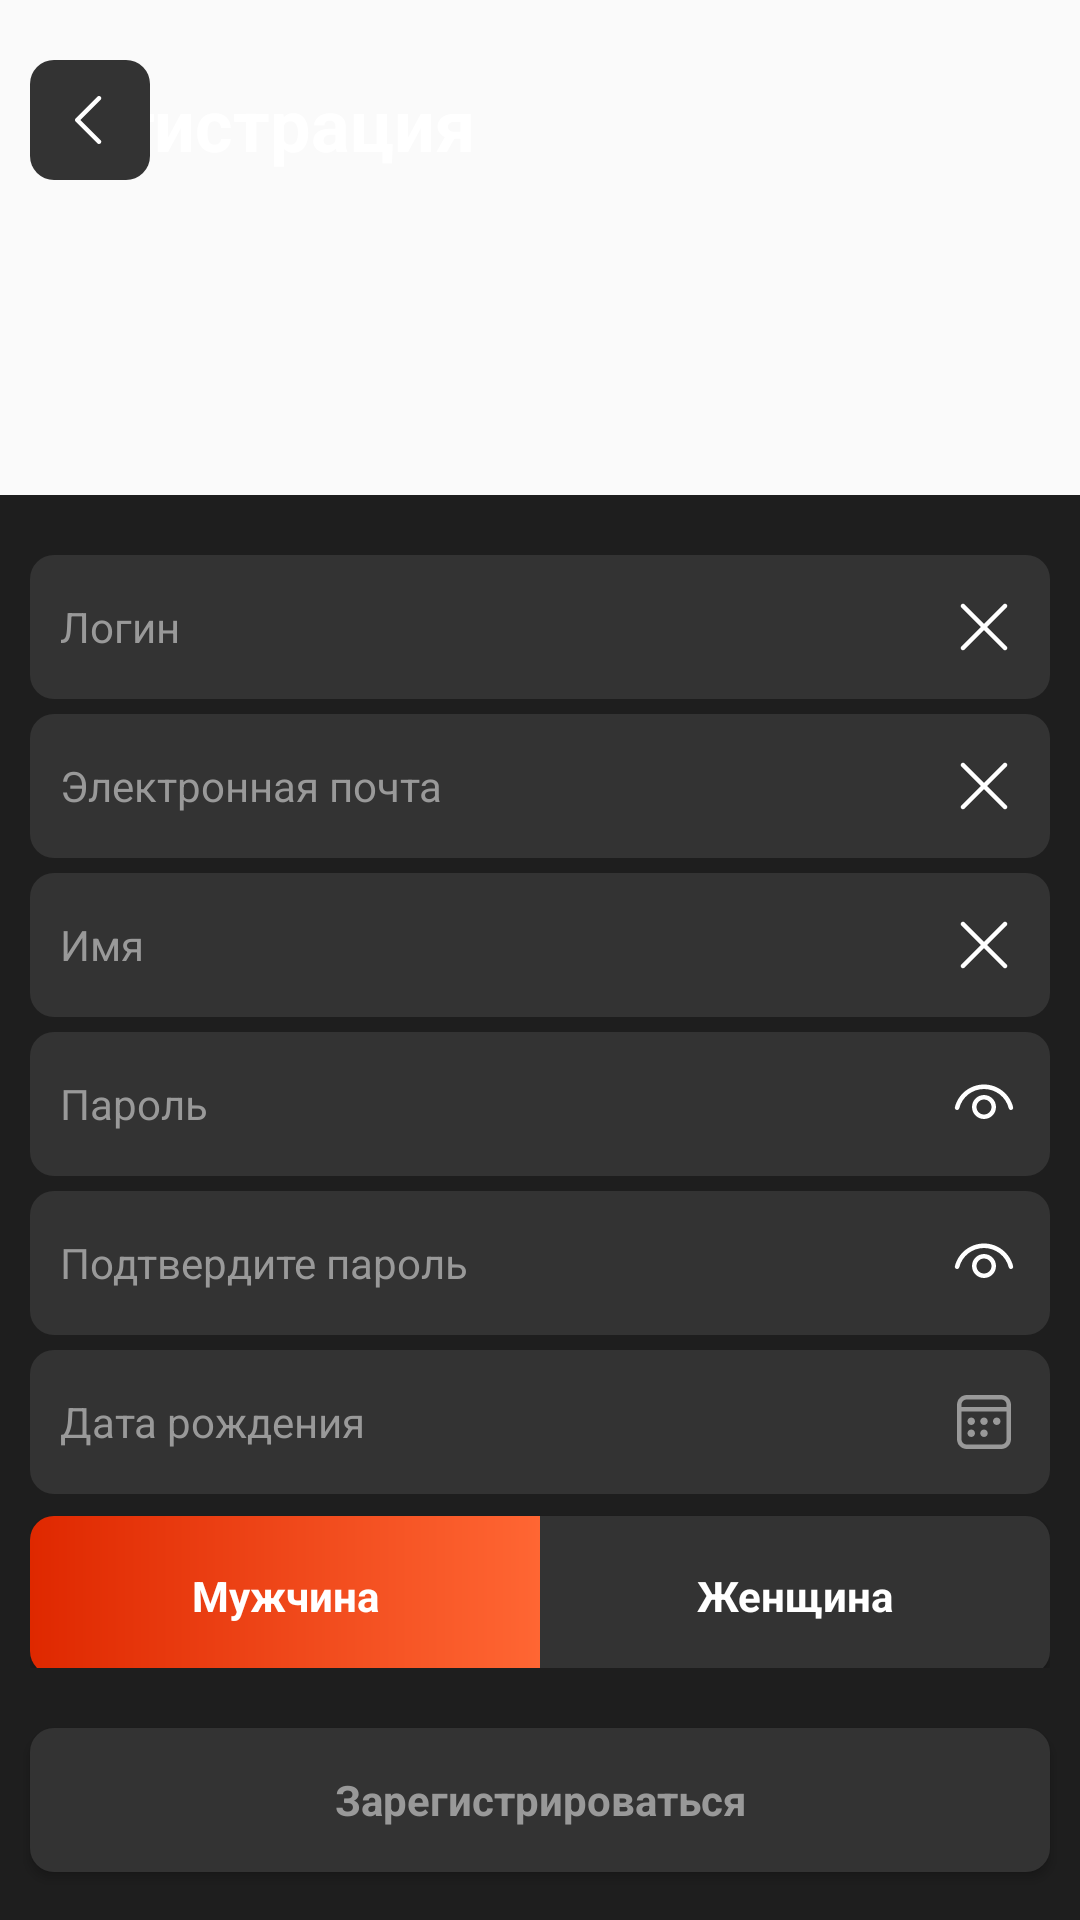

Icon click points for this 1080px x 1920px phone screenshot, format (x=x, y=y):
title chevron left: (x=90, y=120)
